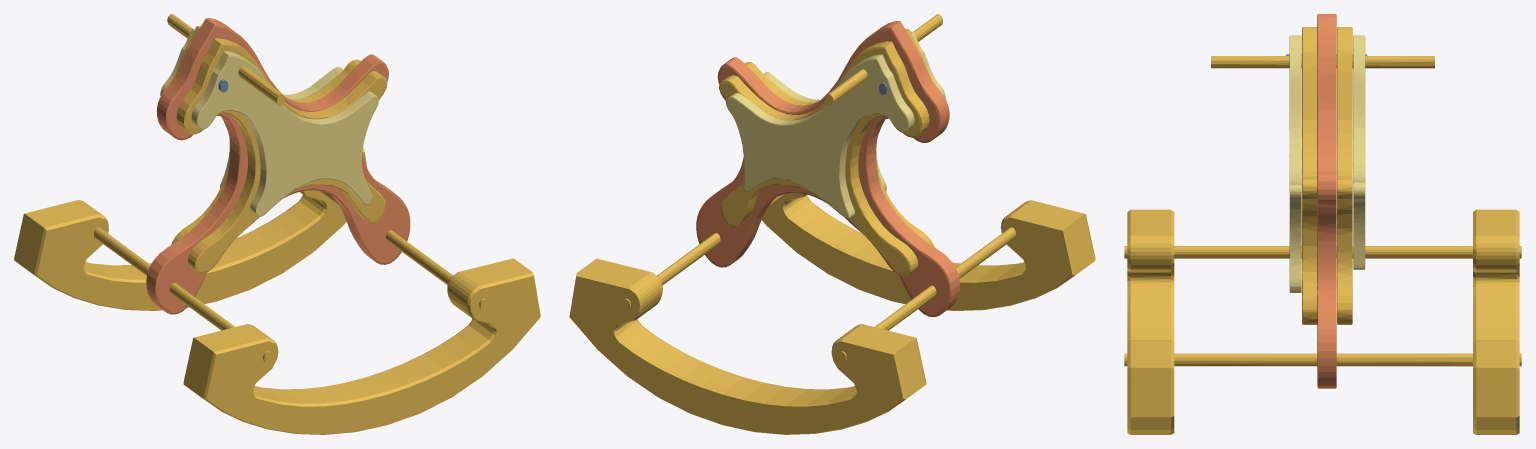
The model's file is sh-bs0-caballito.glb.
3 renders of one model, left to right at view 1: azimuth 30°, elevation 25°; view 2: azimuth 150°, elevation 25°; view 3: azimuth 270°, elevation 25°, orthographic. The views are drawn at different scales.
Visible parts, largest first — view 1: BezierCurve.005, BezierCurve.006, BezierCurve.002; view 2: BezierCurve.005, BezierCurve.002, BezierCurve.006; view 3: BezierCurve.005, BezierCurve.002, BezierCurve.006.
Boxes of the visible parts, box(x1,y1,x2,y2) form: BezierCurve.005: box(14, 14, 540, 434); BezierCurve.006: box(160, 28, 378, 216); BezierCurve.002: box(146, 18, 410, 314); BezierCurve.005: box(569, 14, 1095, 434); BezierCurve.002: box(696, 21, 959, 316); BezierCurve.006: box(726, 31, 945, 218); BezierCurve.005: box(1124, 27, 1521, 434); BezierCurve.002: box(1317, 14, 1336, 388); BezierCurve.006: box(1289, 35, 1365, 292).
Bounding box in the file's own units: 1 × 1 × 1.
